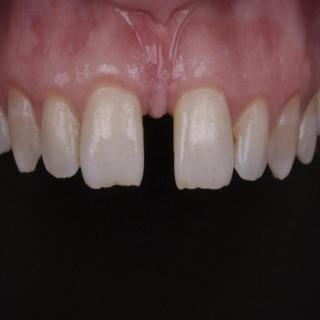stains: (227, 118, 251, 158)
